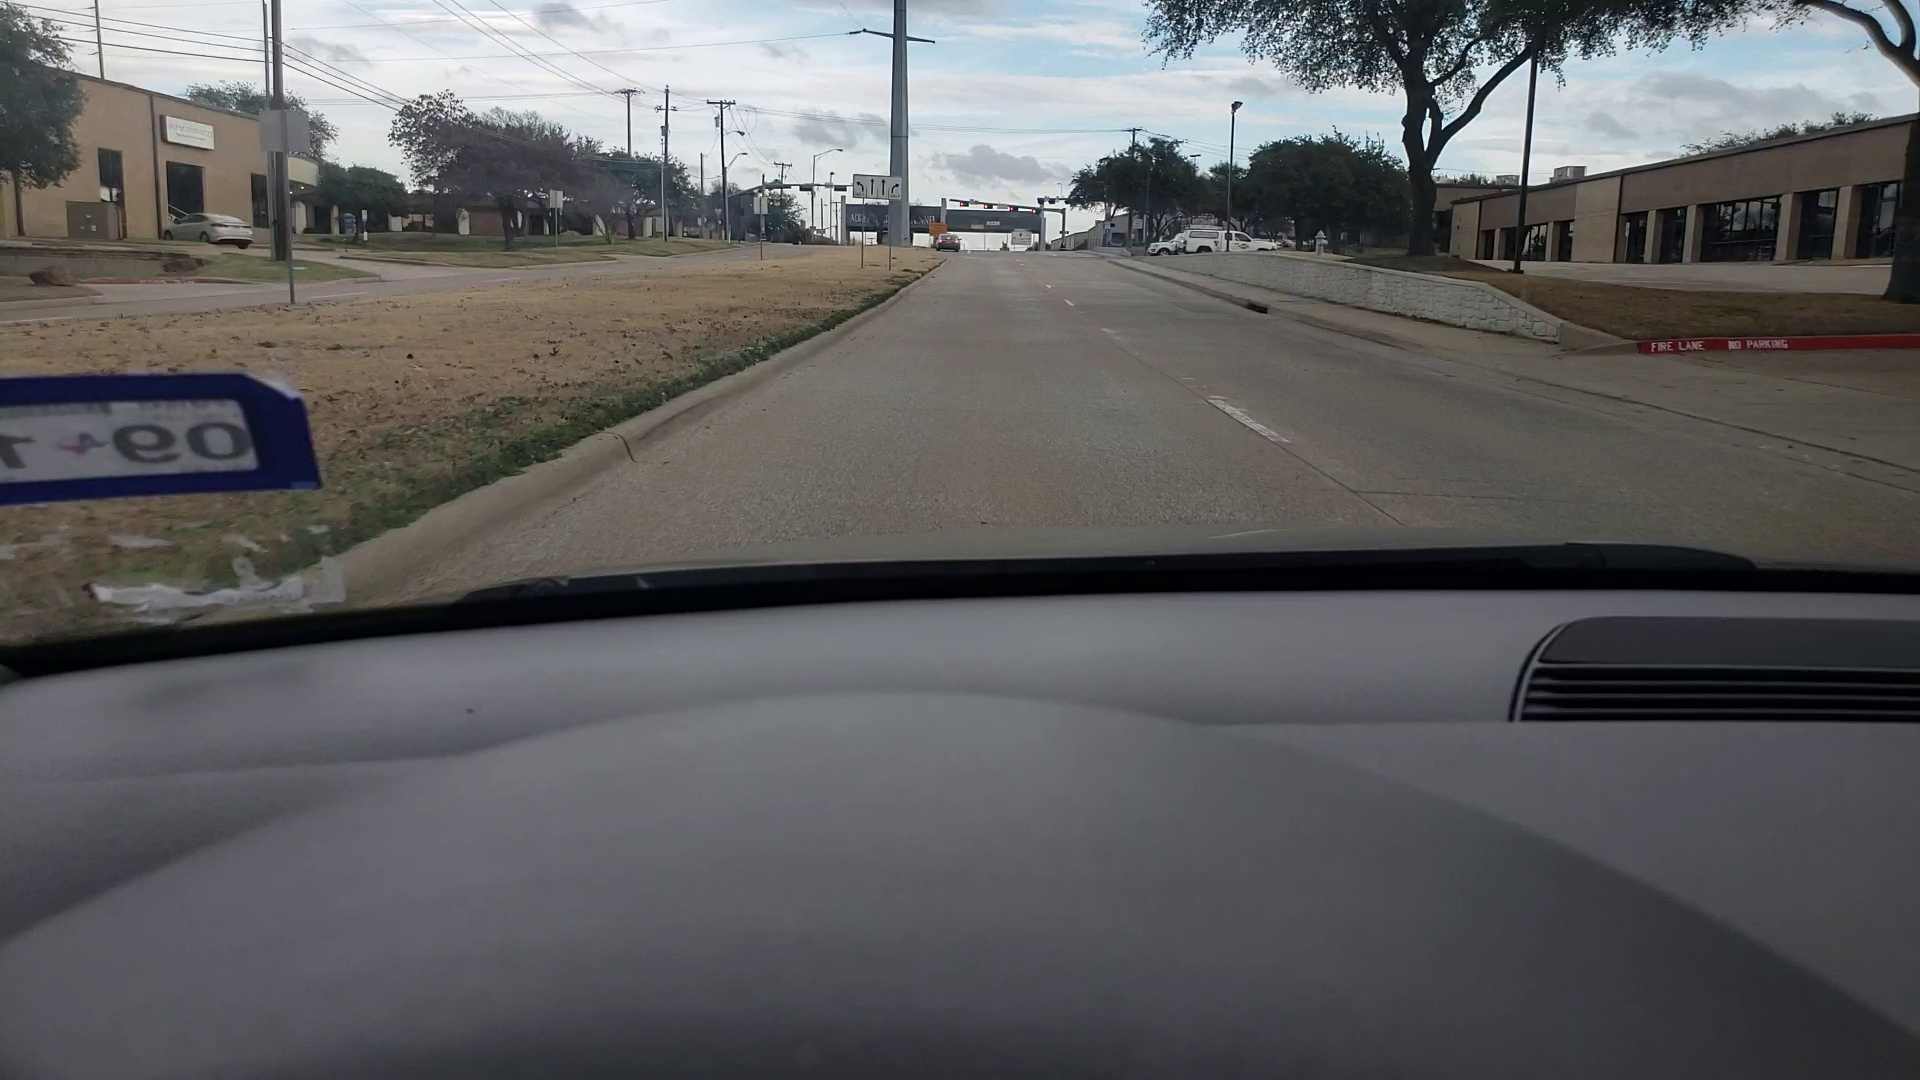car: (166, 204, 252, 247), (1149, 233, 1185, 257), (934, 233, 960, 251)
traffic light: (960, 199, 971, 206), (1007, 204, 1015, 211), (982, 203, 992, 208), (1030, 208, 1038, 214)
truck: (1180, 224, 1278, 255)
